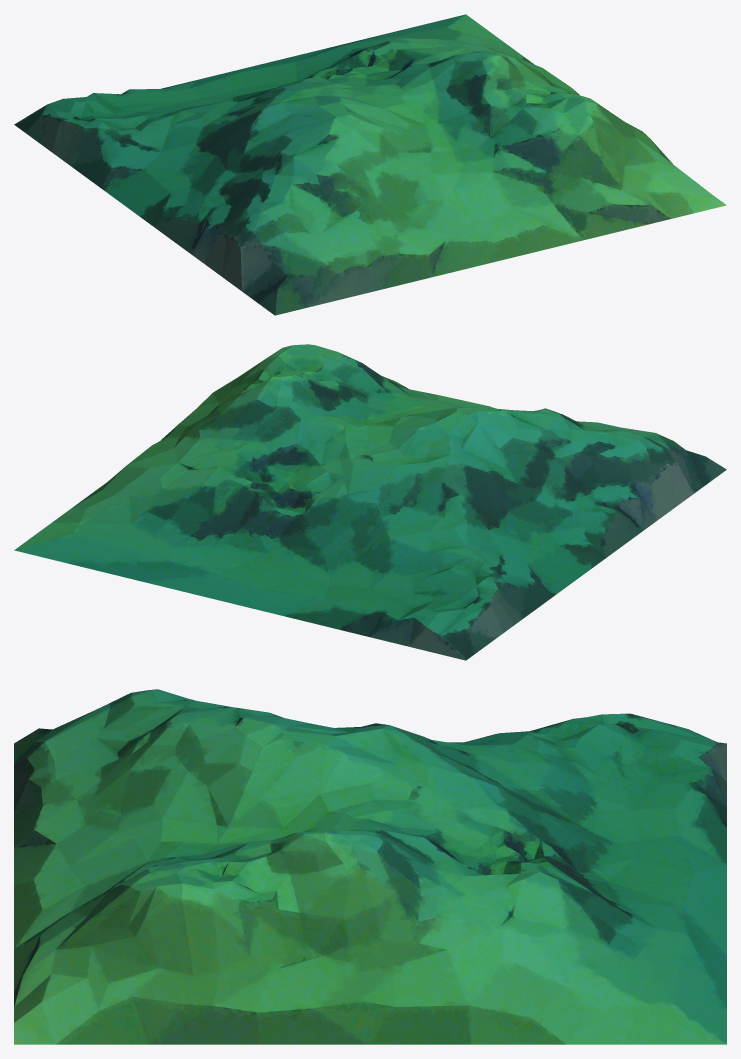
File: land_sloping.fbx
3 renders of one model, top to bottom at view 1: azimuth 30°, elevation 25°; view 2: azimuth 150°, elevation 25°; view 3: azimuth 270°, elevation 25°, orthographic. The views are drawn at different scales.
Parts seen in each view (by area): view 1: land_sloping; view 2: land_sloping; view 3: land_sloping.
Boxes of the visible parts, bbox=[...] form: land_sloping: bbox=[14, 14, 726, 315]; land_sloping: bbox=[14, 344, 726, 660]; land_sloping: bbox=[14, 689, 726, 1044].
Size of the model in its own units: 10 by 2.01 by 10.
